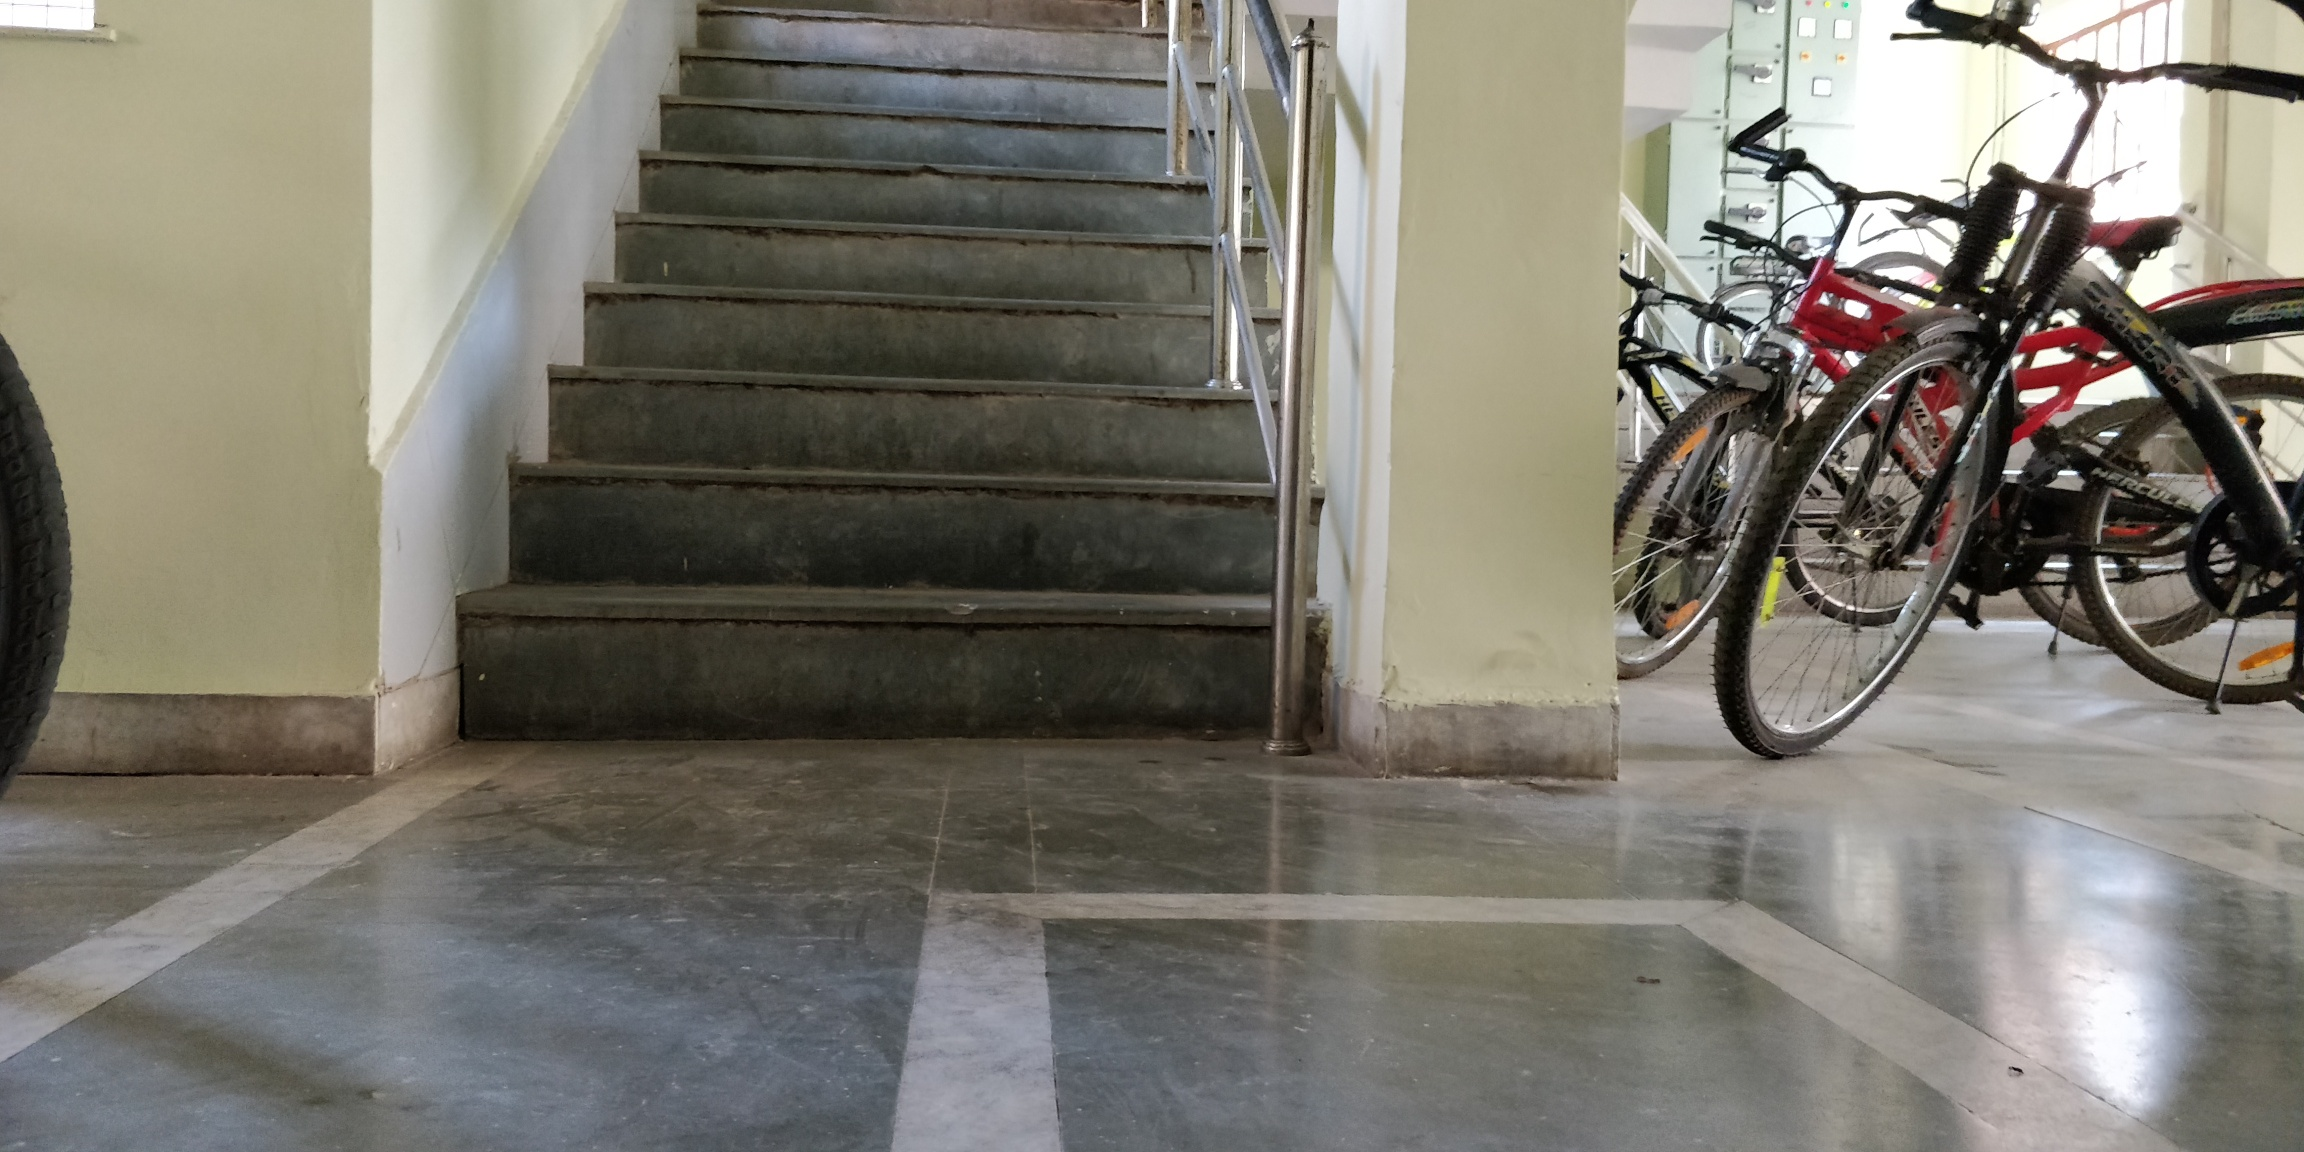stairs_up: (469, 9, 1356, 745)
